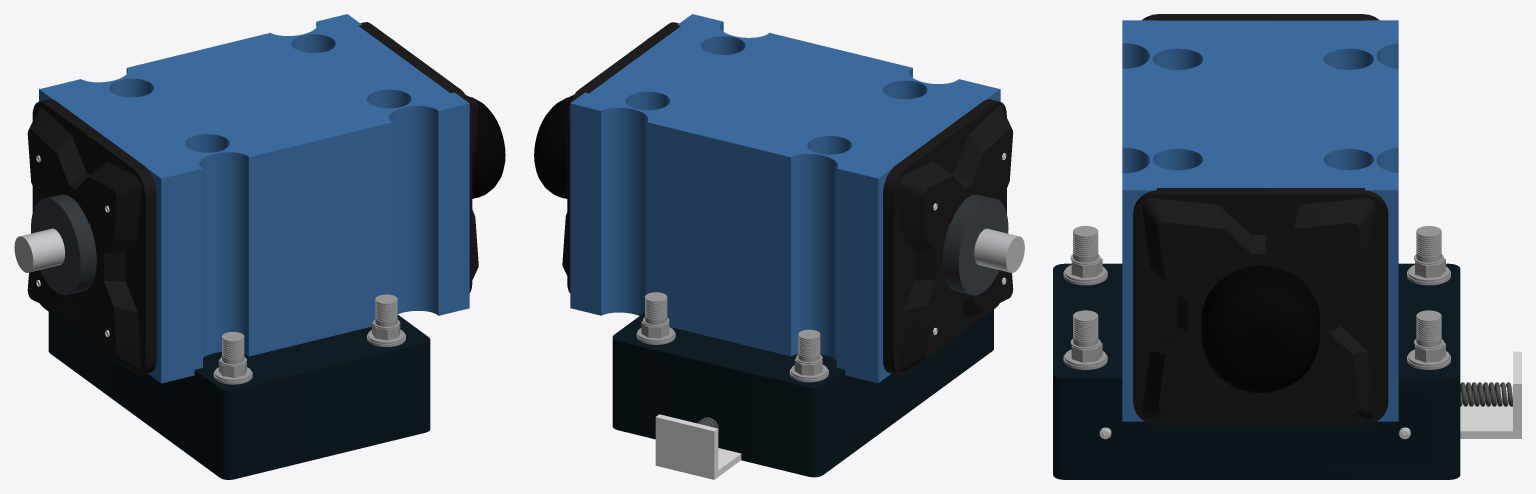
3 renders of one model, left to right at view 1: azimuth 30°, elevation 25°; view 2: azimuth 150°, elevation 25°; view 3: azimuth 270°, elevation 25°, orthographic. The views are drawn at different scales.
Visible parts, largest first — view 1: Cube, Cube.004, Cube.003, Cylinder, Cube.002, Cylinder.001, Cylinder.019, Cylinder.017; view 2: Cube, Cube.004, Cube.003, Cylinder, Cube.005, Cylinder.001, Cube.002, Cylinder.005, Cylinder.003; view 3: Cube, Cube.002, Cube.004, Cylinder.001, Cube.005, Cube.003, Cylinder.017, Cylinder.019, Cylinder.005, Cylinder.003, Circle.
Boxes of the visible parts, x1,y1,x2,y2 form: Cube: (39, 14, 469, 383); Cube.004: (48, 312, 430, 479); Cube.003: (27, 99, 156, 375); Cylinder: (14, 194, 96, 295); Cube.002: (358, 22, 478, 292); Cylinder.001: (470, 97, 505, 198); Cylinder.019: (213, 332, 252, 384); Cylinder.017: (367, 294, 405, 346); Cube: (570, 14, 1000, 383); Cube.004: (612, 309, 993, 477); Cube.003: (883, 99, 1013, 375); Cylinder: (942, 194, 1024, 295); Cube.005: (655, 414, 741, 479); Cylinder.001: (534, 97, 567, 198); Cube.002: (562, 22, 680, 293); Cylinder.005: (789, 329, 828, 382); Cylinder.003: (636, 292, 675, 344); Cube: (1122, 20, 1398, 421); Cube.002: (1133, 188, 1388, 425); Cube.004: (1053, 263, 1460, 479); Cylinder.001: (1201, 265, 1319, 393); Cube.005: (1460, 351, 1521, 438); Cube.003: (1142, 14, 1379, 20); Cylinder.017: (1063, 310, 1107, 369); Cylinder.019: (1063, 226, 1107, 285); Cylinder.005: (1407, 226, 1450, 285); Cylinder.003: (1407, 310, 1450, 369); Circle: (1460, 382, 1512, 406).
Bounding box in the file's own units: 4.77 × 2.82 × 3.67.
Materials: 9 (3 with a texture image).
